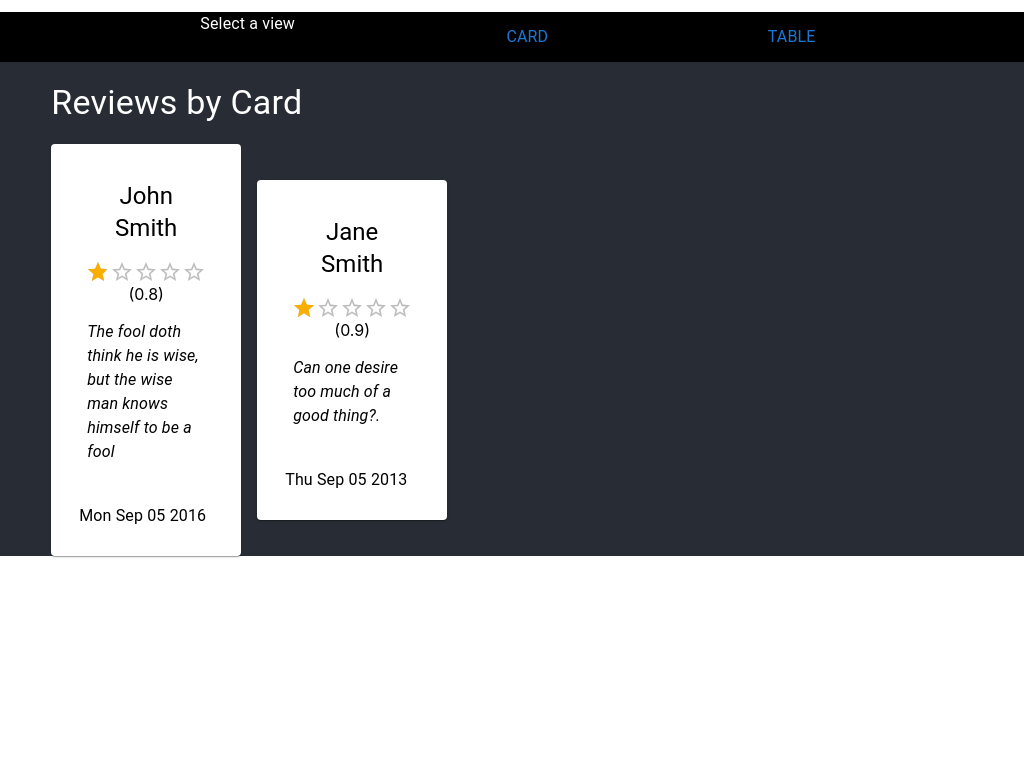
Test case: Basic app navigation › should be able to view both views of the app
This screenshot has width=1024, height=780.
# Viewing the Table app
Click the button "Table".
click(792, 37)  # box [760,12,824,62]
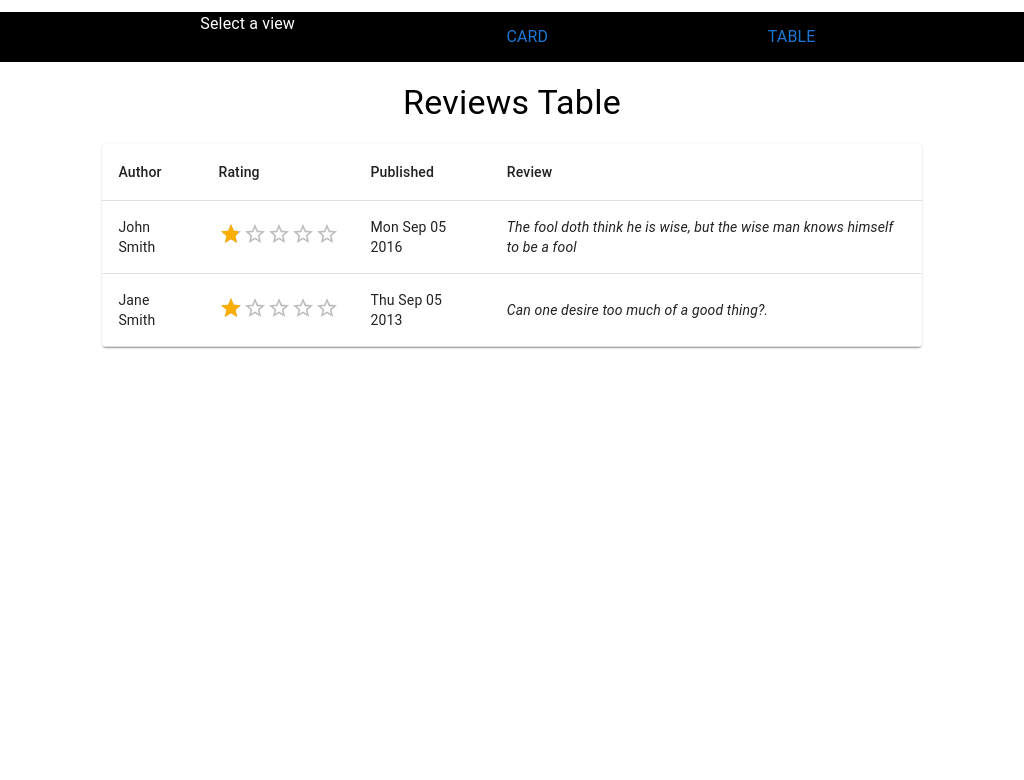
Expected: the text "John Smith" is shown, [102,200,202,274]
Now the heading "Reviews Table" is shown, box [403,82,621,122]
# // Viewing the Card App (default view)
Click the button "Card".
click(527, 37)  # box [495,12,559,62]
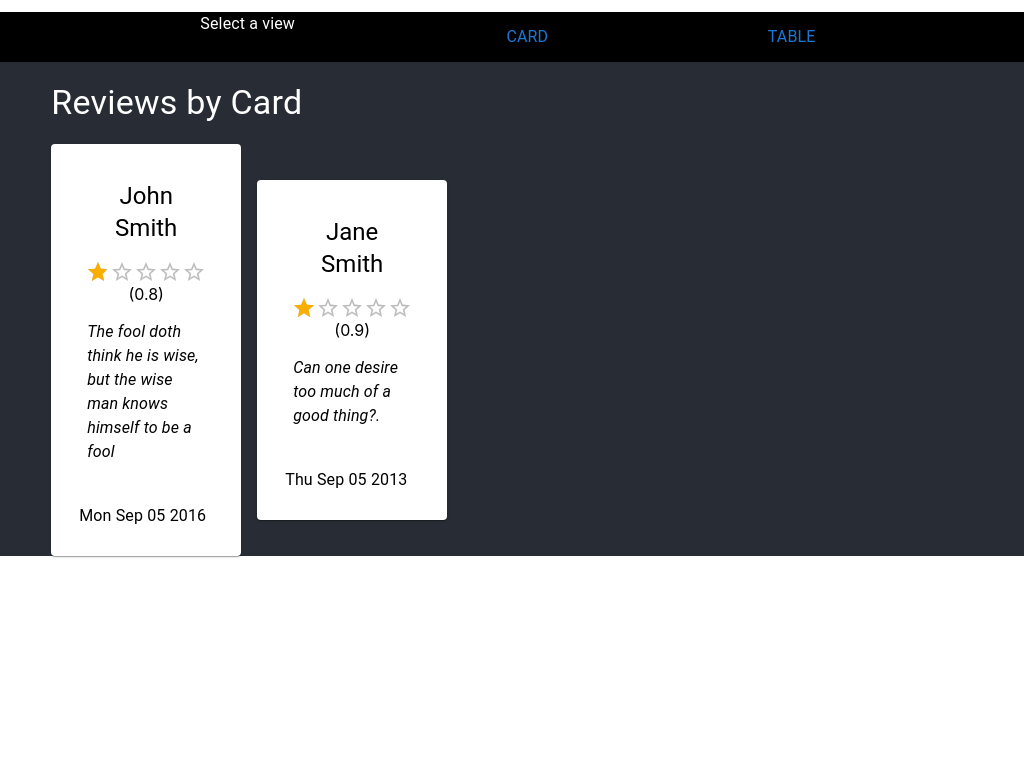
Now the heading "Reviews by Card" is shown, box [51,82,302,122]
